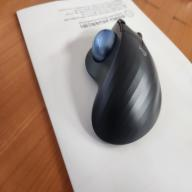mouse: (85, 18, 162, 146)
